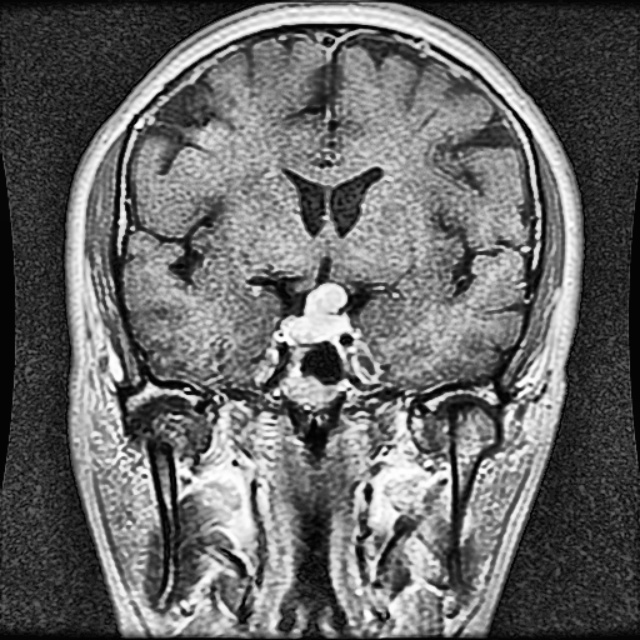Pituitary: (283, 283, 349, 344)
